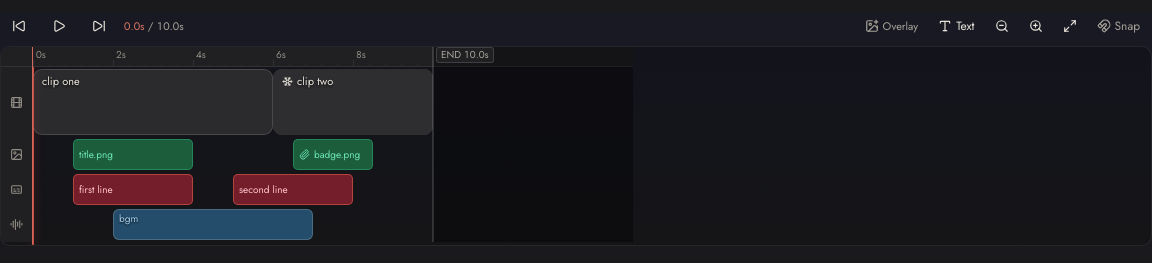
Test: 來源起點硬停的視覺語言（2026-09-11，取代 Plan 14 黑墊） › trim-in 拖到來源起點：in 把手帶 danger class，out 把手不受影響；badge 附 · min
Press the mouse on the 1st element with class "handle": (36, 102) [33, 69, 39, 135]
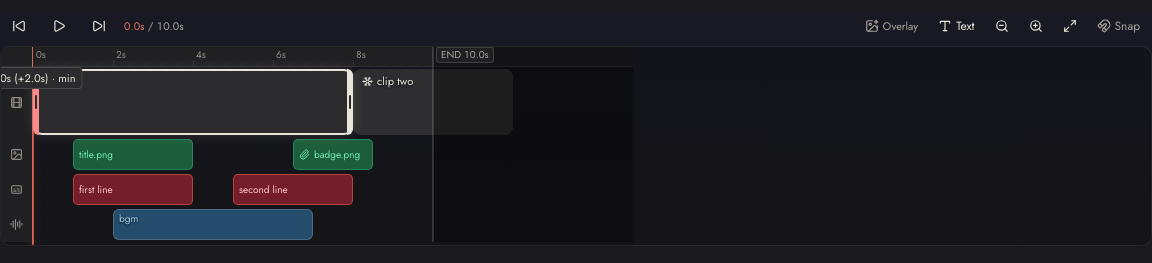
Check: the text "8.0s (+2.0s) · min" is shown, box [0, 67, 82, 89]
